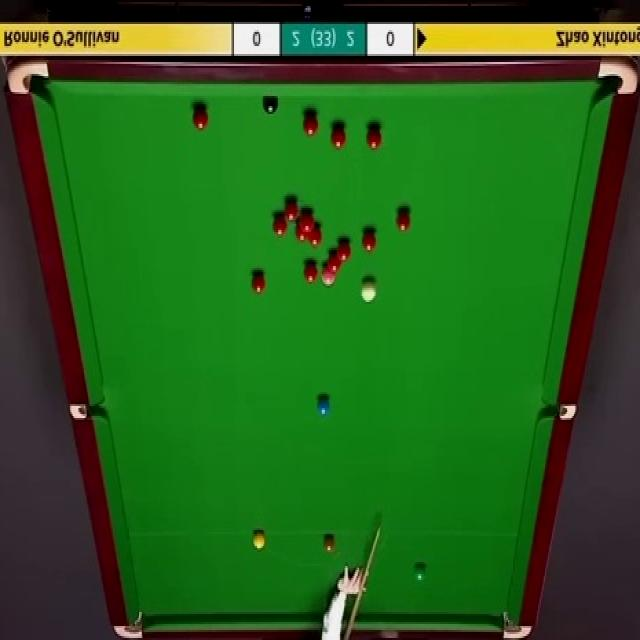black-ball: (262, 95, 279, 114)
blue-ball: (316, 395, 330, 420)
brown-ball: (323, 534, 335, 552)
green-ball: (412, 562, 427, 582)
pink-ball: (323, 264, 336, 286)
red-ball: (396, 205, 412, 233), (192, 106, 209, 131), (366, 125, 382, 151), (272, 213, 288, 237), (331, 124, 346, 149), (361, 228, 376, 253), (304, 112, 318, 137), (285, 196, 299, 220), (308, 222, 322, 246), (337, 239, 351, 262), (252, 272, 266, 294), (328, 252, 342, 274), (304, 262, 318, 281), (301, 210, 314, 230), (295, 222, 308, 242)
white-ball: (361, 278, 376, 306)
yellow-ball: (252, 531, 265, 551)
